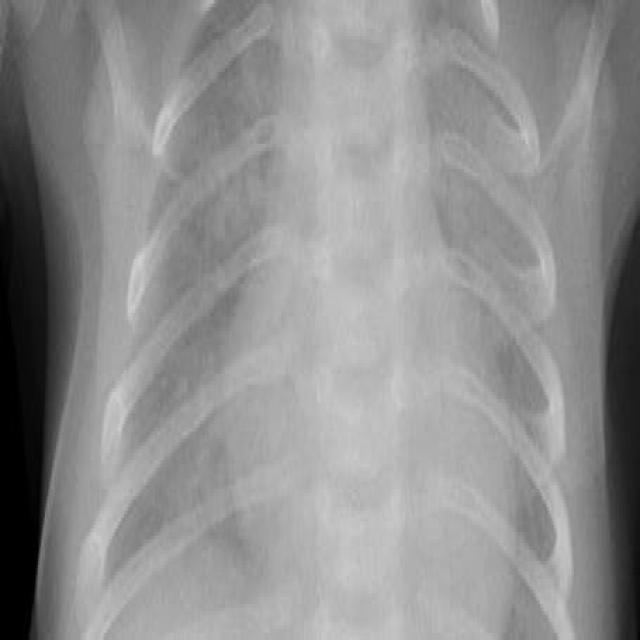low-pneumonia: (118, 268, 237, 554), (439, 84, 518, 313), (185, 105, 268, 307)
